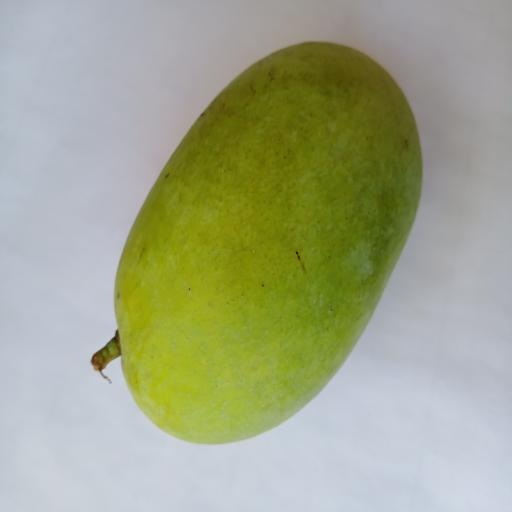mango-unripe: (84, 34, 429, 461)
